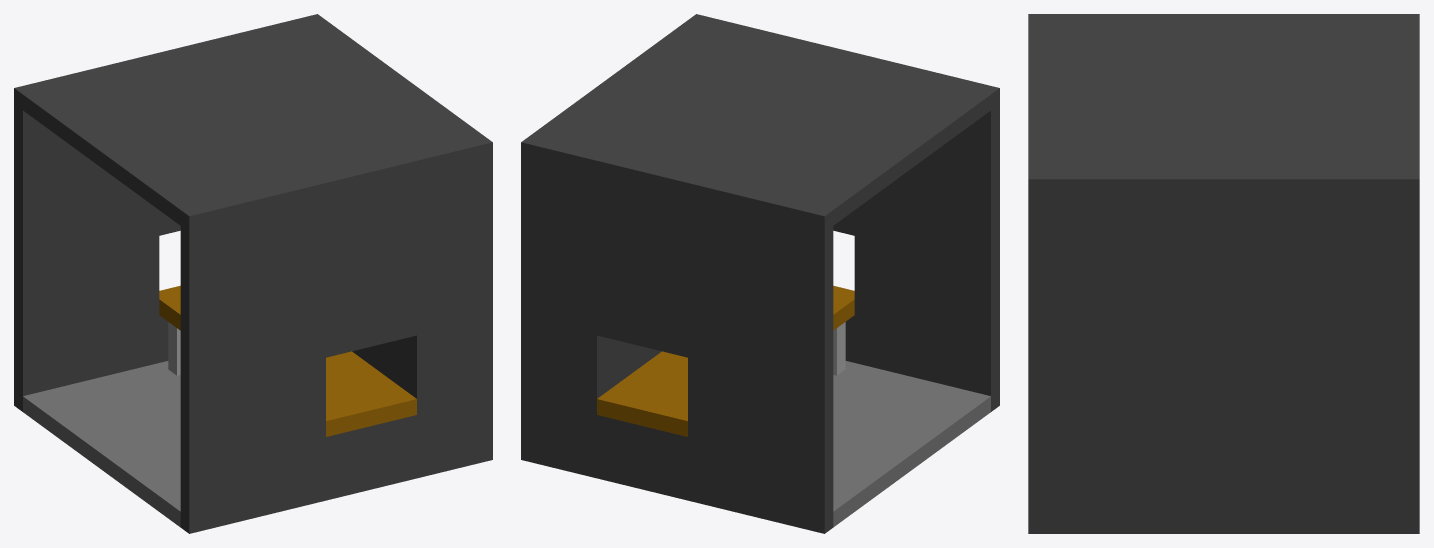
Rendered from factory.glb.
The picture shows the model from 3 angles, left to right: view 1: azimuth 30°, elevation 25°; view 2: azimuth 150°, elevation 25°; view 3: azimuth 270°, elevation 25°; orthographic projection. The views are drawn at different scales.
Parts seen in each view (by area): view 1: factory; view 2: factory; view 3: factory.
Part boxes in pixels (bbox=[...]): factory: bbox=[14, 14, 492, 533]; factory: bbox=[521, 14, 999, 533]; factory: bbox=[1028, 14, 1419, 533].
Size of the model in its own units: 20 by 20 by 20.
Materials: 1 (1 with a texture image).
